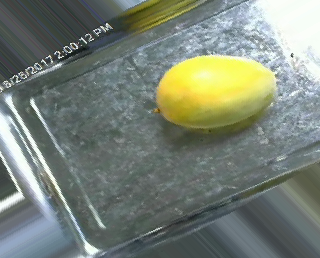Mango: (153, 53, 283, 131)
